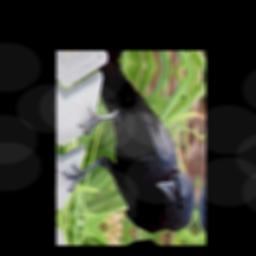Crow: (58, 52, 203, 242)
